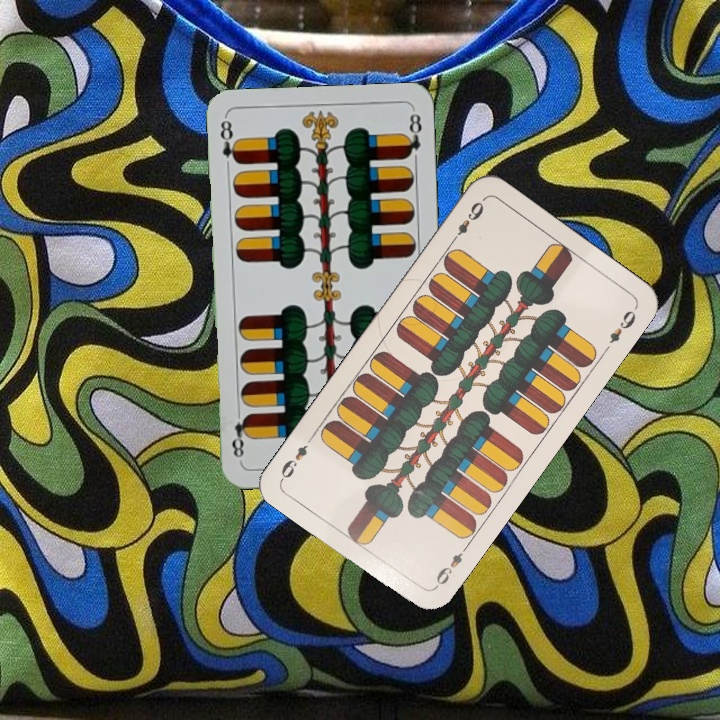E8: (216, 114, 242, 167)
E9: (430, 541, 471, 592), (446, 197, 487, 246)
